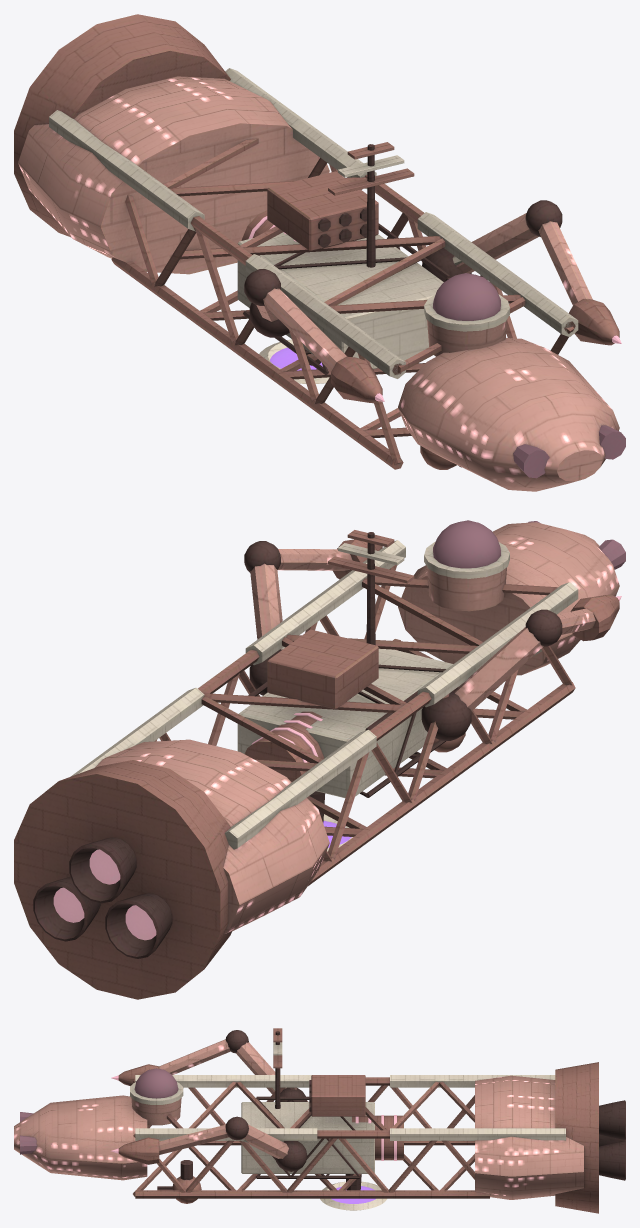
Rendered from tessari_destroyer.glb.
3 views of the same model, one above another, from view 1: azimuth 30°, elevation 25°; view 2: azimuth 150°, elevation 25°; view 3: azimuth 270°, elevation 25° (orthographic). The views are drawn at different scales.
Visible parts, largest first — view 1: HULL, SYS_DRIVE, SYS_BUS_F, SYS_WPN1, SYS_BUS_A, SYS_MSL, SYS_WPN2, SYS_BRIDGE, SYS_SENSORS, SYS_DAMP; view 2: HULL, SYS_DRIVE, SYS_WPN2, SYS_MSL, SYS_BUS_F, SYS_BRIDGE, SYS_BUS_A, SYS_WPN1, SYS_SENSORS, SYS_REACTOR; view 3: HULL, SYS_DRIVE, SYS_WPN1, SYS_BUS_A, SYS_BUS_F, SYS_WPN2, SYS_MSL, SYS_BRIDGE, SYS_DAMP, SYS_REACTOR, SYS_SENSORS, SYS_PD.
Part boxes in pixels (x1,y1,x2,y2): HULL: (18, 76, 625, 491); SYS_DRIVE: (14, 14, 230, 237); SYS_BUS_F: (245, 212, 578, 378); SYS_WPN1: (422, 200, 621, 345); SYS_BUS_A: (49, 68, 376, 231); SYS_MSL: (267, 171, 378, 251); SYS_WPN2: (244, 269, 384, 403); SYS_BRIDGE: (424, 273, 509, 356); SYS_SENSORS: (328, 142, 414, 267); SYS_DAMP: (259, 339, 329, 383); HULL: (95, 521, 625, 934); SYS_DRIVE: (14, 760, 231, 999); SYS_WPN2: (421, 594, 621, 740); SYS_MSL: (267, 629, 378, 709); SYS_BUS_F: (245, 540, 578, 707); SYS_BRIDGE: (424, 520, 509, 611); SYS_BUS_A: (71, 687, 376, 849); SYS_WPN1: (244, 539, 382, 695); SYS_SENSORS: (328, 530, 414, 645); SYS_REACTOR: (244, 711, 324, 781); HULL: (14, 1075, 583, 1199); SYS_DRIVE: (555, 1062, 625, 1213); SYS_WPN1: (111, 1116, 307, 1171); SYS_BUS_A: (390, 1075, 565, 1140); SYS_BUS_F: (135, 1075, 317, 1140); SYS_WPN2: (111, 1030, 306, 1101); SYS_MSL: (309, 1075, 365, 1116); SYS_BRIDGE: (130, 1068, 183, 1125); SYS_DAMP: (320, 1174, 386, 1210); SYS_REACTOR: (352, 1115, 403, 1160); SYS_SENSORS: (273, 1028, 282, 1108); SYS_PD: (157, 1160, 201, 1203).
Bounding box in the file's own units: 17.25 × 14.49 × 46.17.
Materials: 1 (1 with a texture image).
